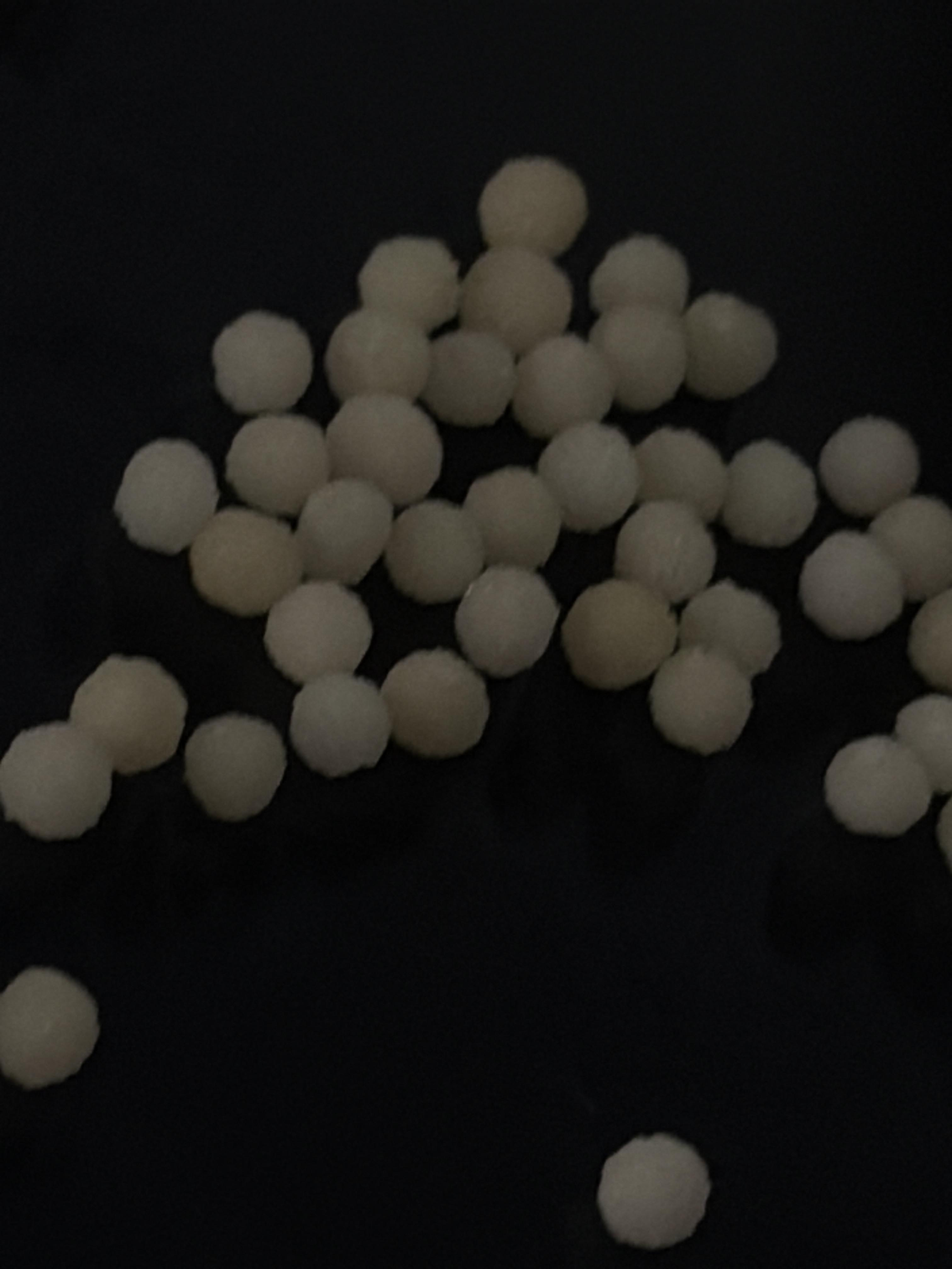pill: (71, 654, 187, 774), (597, 1133, 711, 1250), (0, 722, 112, 841), (326, 393, 443, 505), (561, 578, 677, 690), (189, 507, 303, 616), (460, 246, 572, 356), (0, 966, 99, 1089), (114, 438, 218, 554), (381, 648, 490, 758), (454, 565, 558, 677), (799, 530, 904, 640), (649, 646, 752, 755), (537, 422, 639, 532), (264, 581, 372, 684), (184, 713, 286, 822), (824, 735, 932, 837), (478, 156, 587, 256), (589, 302, 687, 412), (614, 500, 716, 604), (512, 334, 614, 438), (225, 414, 329, 516), (212, 310, 313, 415), (289, 673, 390, 778), (721, 439, 818, 547), (296, 477, 393, 585), (818, 416, 920, 518), (384, 499, 484, 603), (463, 465, 561, 568), (684, 291, 777, 399), (679, 579, 781, 676), (323, 308, 429, 401), (358, 235, 459, 332), (422, 329, 515, 427), (869, 494, 952, 602), (636, 426, 727, 522), (589, 233, 689, 313), (894, 693, 952, 793), (907, 589, 952, 692), (936, 798, 952, 870), (667, 593, 683, 600)
